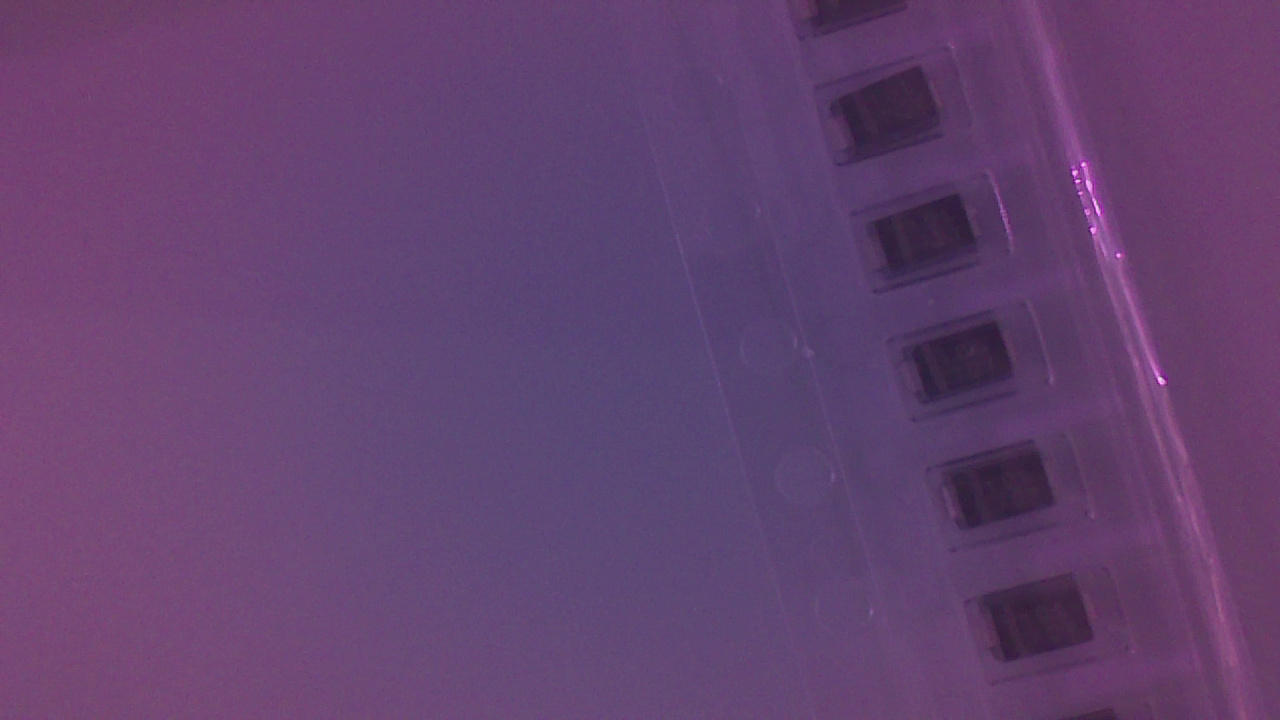Diode: (977, 577, 1108, 675), (943, 447, 1071, 539), (833, 66, 957, 155), (902, 323, 1028, 410), (870, 198, 989, 281)
